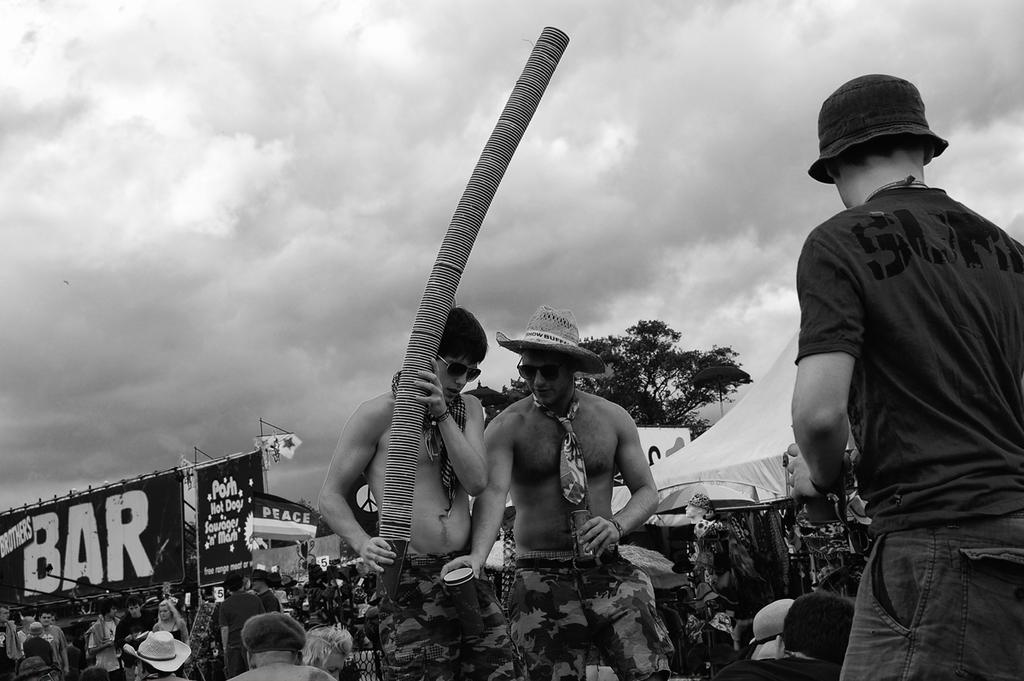Hat: (804, 73, 945, 184), (495, 304, 603, 376), (122, 626, 192, 672)
